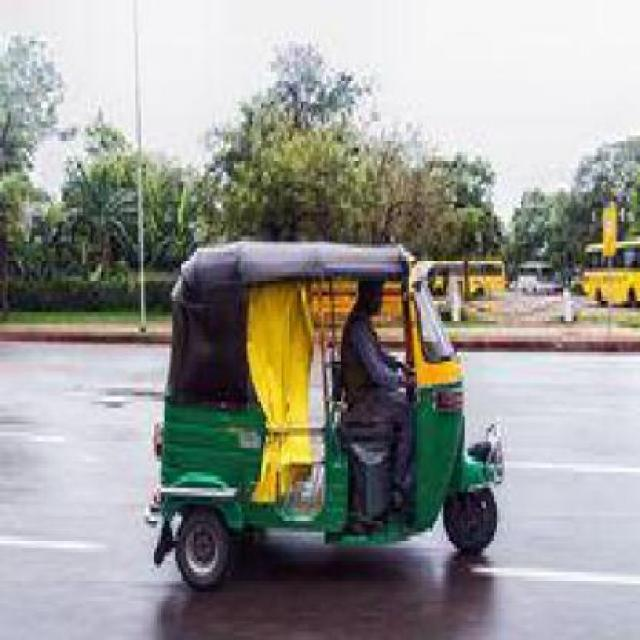vehicle: (151, 216, 507, 592)
